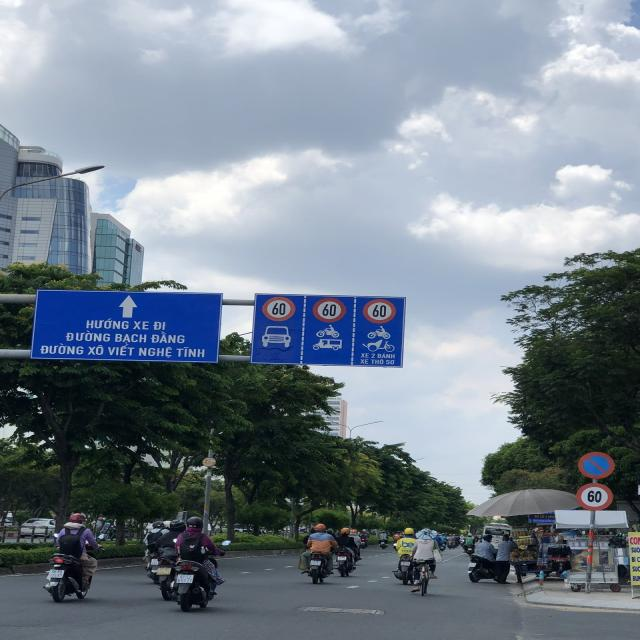Bien bao cam do xe: (575, 450, 618, 481)
Bien bao toc do toi da cho phep: (356, 292, 402, 328), (578, 482, 618, 512), (310, 294, 349, 324), (259, 295, 300, 323)
